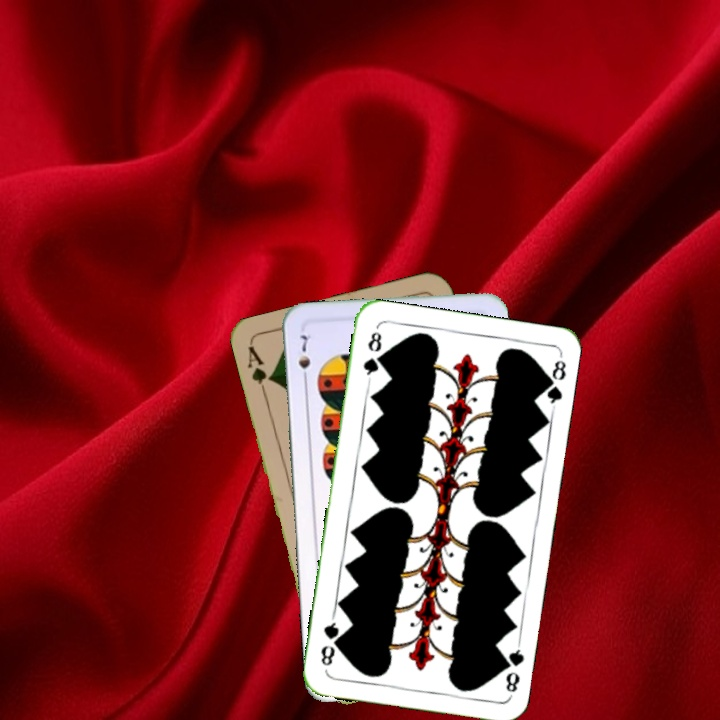G8: (497, 639, 527, 698), (358, 327, 384, 383)
GA: (243, 342, 276, 400)
S7: (294, 330, 313, 387)
